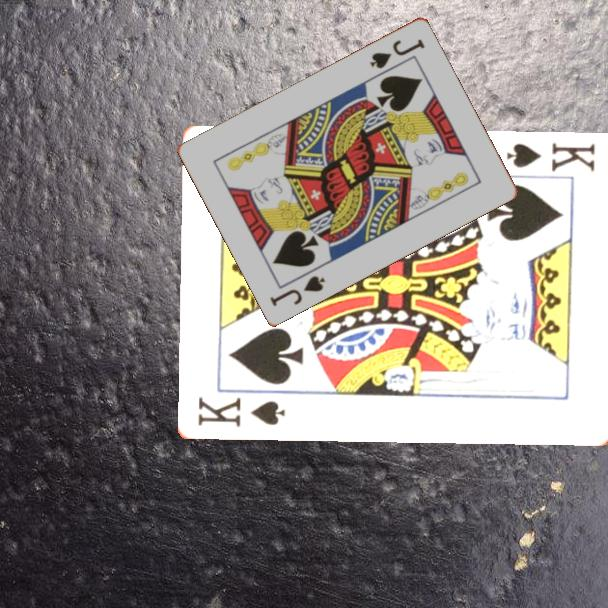s11: (266, 271, 328, 309), (366, 35, 428, 71)
s13: (193, 394, 288, 430), (503, 140, 597, 175)
